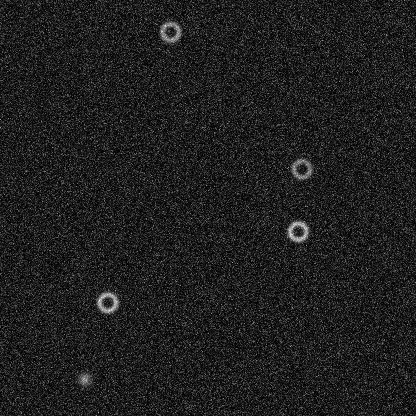Ring: (95, 290, 119, 314), (285, 219, 309, 243), (289, 156, 313, 180), (158, 19, 182, 43)
Spot: (76, 371, 92, 387)
